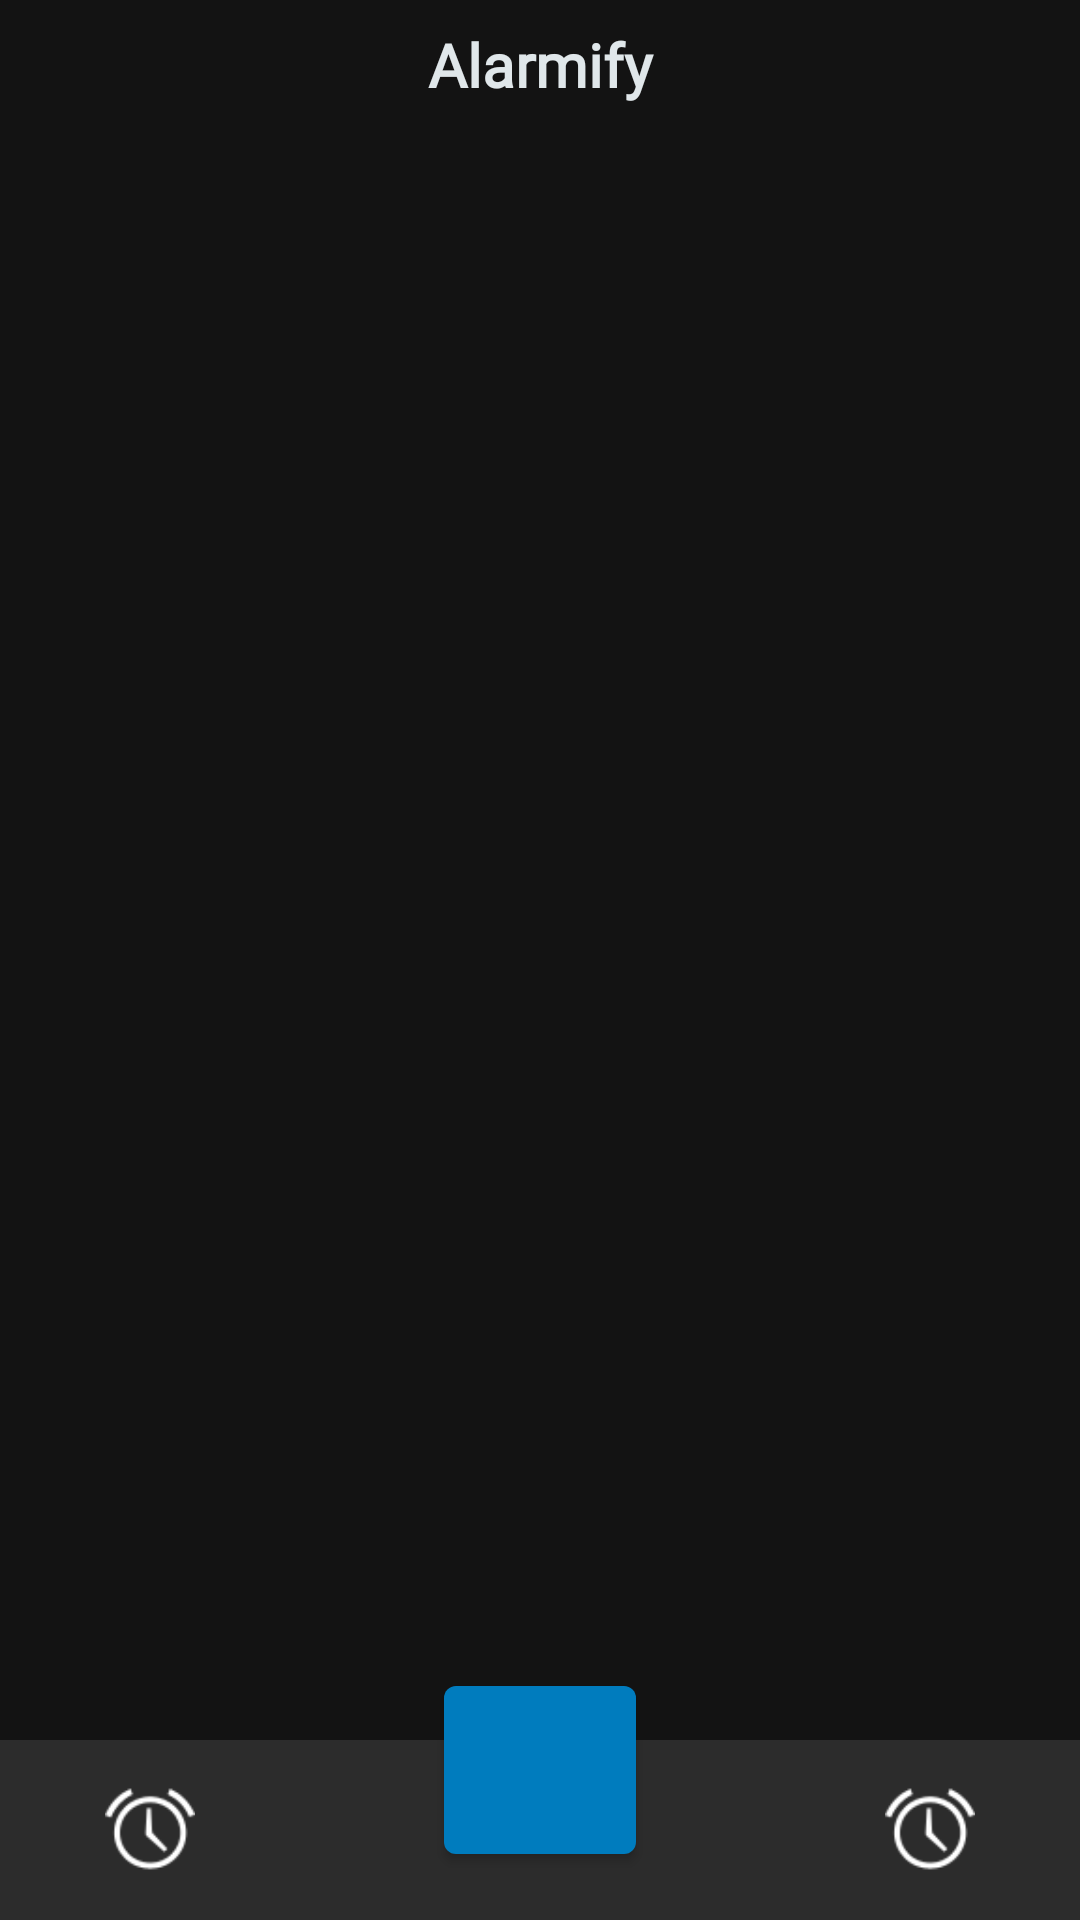

Point at icon controls on the screen. Image size 1080px x 1920px, points as [x,y].
lock idle alarm: [150,1829], [930,1829]
